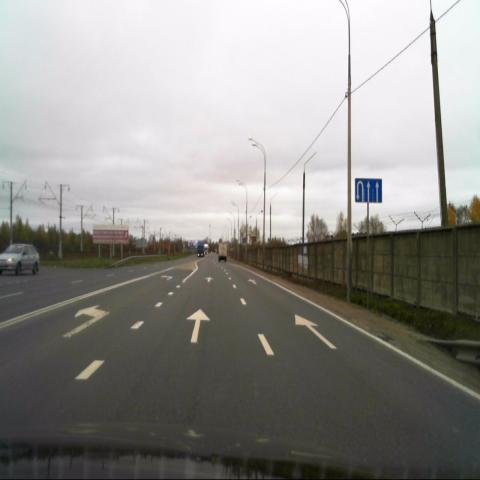5_15_1: (355, 178, 382, 203)
